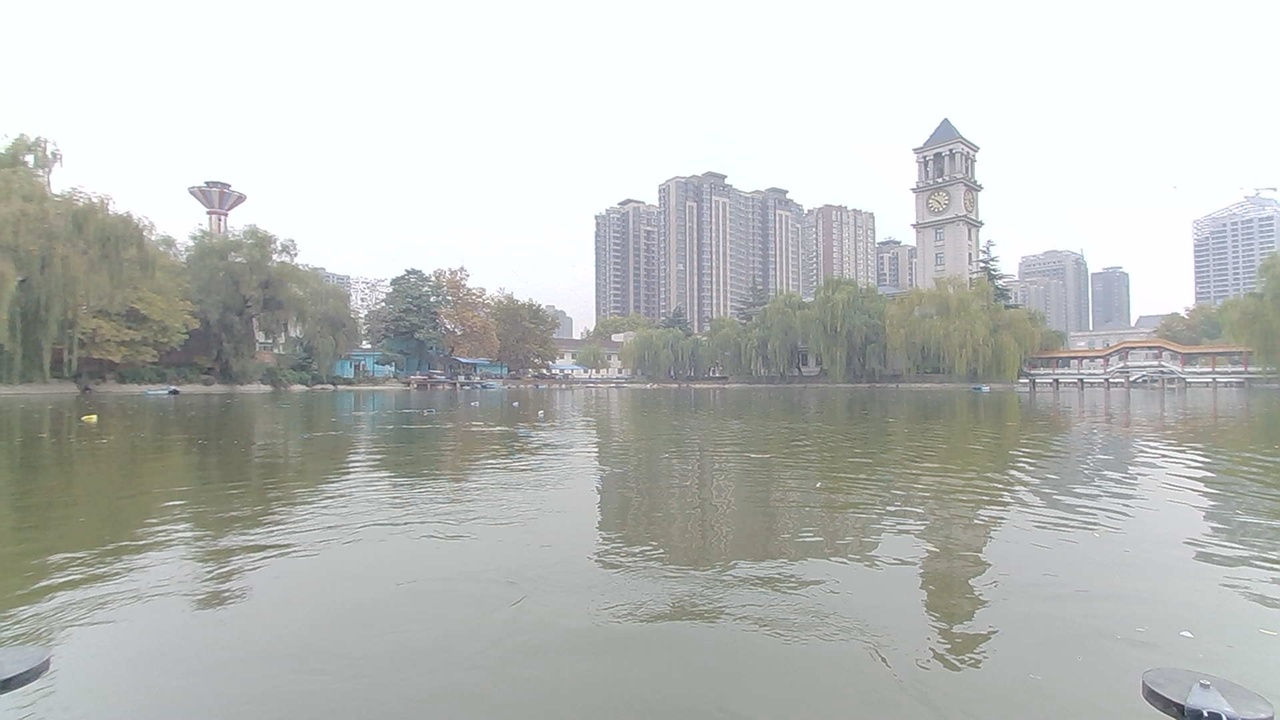bottle: (418, 398, 452, 427), (75, 406, 108, 430), (529, 389, 556, 417), (463, 389, 489, 415), (503, 391, 529, 410)
